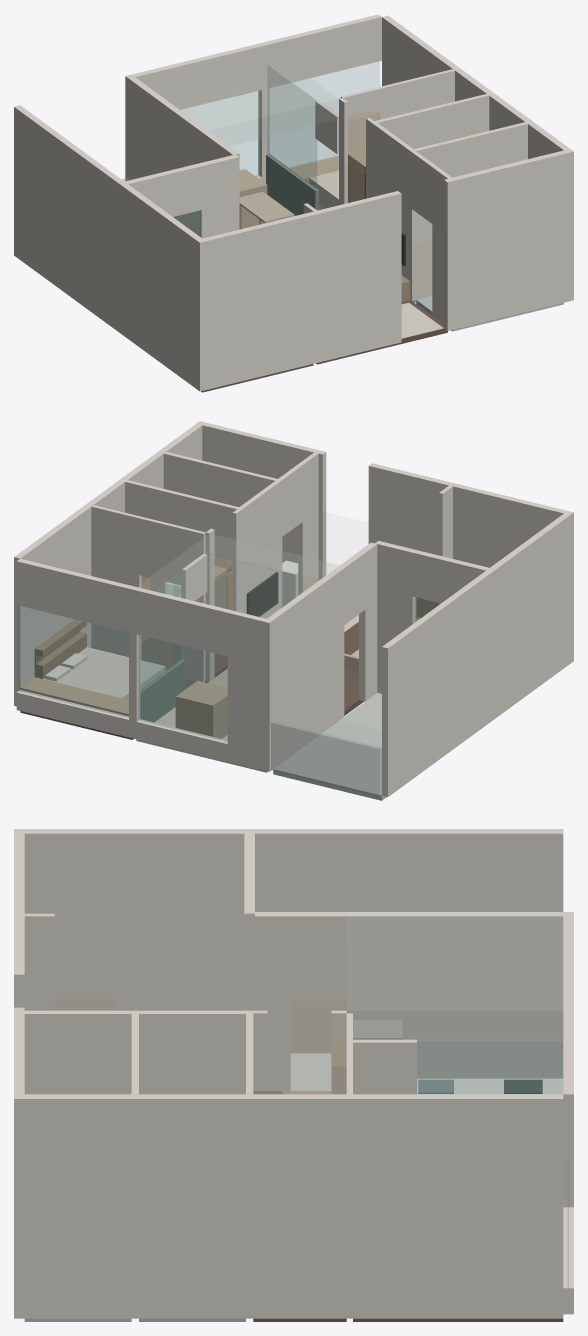
The model's file is B8-2F_幾何模型_v0.3.glb.
3 views of the same model, one above another, from view 1: azimuth 30°, elevation 25°; view 2: azimuth 150°, elevation 25°; view 3: azimuth 270°, elevation 25° (orthographic). The views are drawn at different scales.
Visible parts, largest first — view 1: outer-bottom-a, outer-left, outer-bottom-b, kitchen-ceiling, master-window, kitchen-west, outer-right, master-window-head, bath-divider, master-partition-glass, kitchen-window-head, mainbath-west (+26 smaller); view 2: outer-left, outer-bottom-a, kitchen-west, master-window, kitchen-ceiling, outer-right, kitchen-window, kitchen-exterior-a, terrace-rail, floor-terrace, outer-bottom-b, master-window-head (+35 smaller); view 3: outer-right, outer-left, kitchen-west, kitchen-ceiling, mainbath-west, master-partition-glass, balcony-door-head, balcony-door-jamb, bath-west-head, bath-west-a, master-door-head, outer-bottom-b (+14 smaller).
Part boxes in pixels (x1,y1,x2,y2): outer-bottom-a: [196, 191, 401, 391]; outer-left: [14, 105, 201, 388]; outer-bottom-b: [444, 149, 573, 330]; kitchen-ceiling: [136, 46, 338, 144]; master-window: [270, 61, 379, 167]; kitchen-west: [129, 77, 205, 234]; outer-right: [382, 15, 569, 158]; master-window-head: [266, 14, 381, 87]; bath-divider: [414, 122, 527, 299]; master-partition-glass: [267, 65, 317, 189]; kitchen-window-head: [167, 43, 261, 109]; mainbath-west: [370, 121, 416, 300]; outer-left: [382, 513, 570, 796]; outer-bottom-a: [368, 463, 573, 663]; kitchen-west: [267, 567, 344, 768]; master-window: [18, 606, 128, 717]; kitchen-ceiling: [137, 534, 338, 617]; outer-right: [14, 423, 202, 706]; kitchen-window: [138, 635, 227, 741]; kitchen-exterior-a: [227, 610, 273, 771]; terrace-rail: [271, 721, 381, 796]; floor-terrace: [273, 720, 386, 800]; outer-bottom-b: [196, 421, 326, 580]; master-window-head: [16, 558, 131, 632]; outer-right: [24, 1094, 563, 1318]; outer-left: [24, 829, 563, 1053]; kitchen-west: [353, 912, 563, 1078]; kitchen-ceiling: [347, 917, 562, 1038]; mainbath-west: [131, 1010, 253, 1094]; master-partition-glass: [417, 1041, 562, 1093]; balcony-door-head: [290, 912, 352, 1000]; balcony-door-jamb: [255, 912, 290, 1093]; bath-west-head: [71, 1010, 131, 1094]; bath-west-a: [24, 1010, 70, 1094]; master-door-head: [353, 1039, 416, 1094]; outer-bottom-b: [14, 1007, 24, 1318].
Size of the model in its own units: 8.95 by 3.52 by 7.85.
